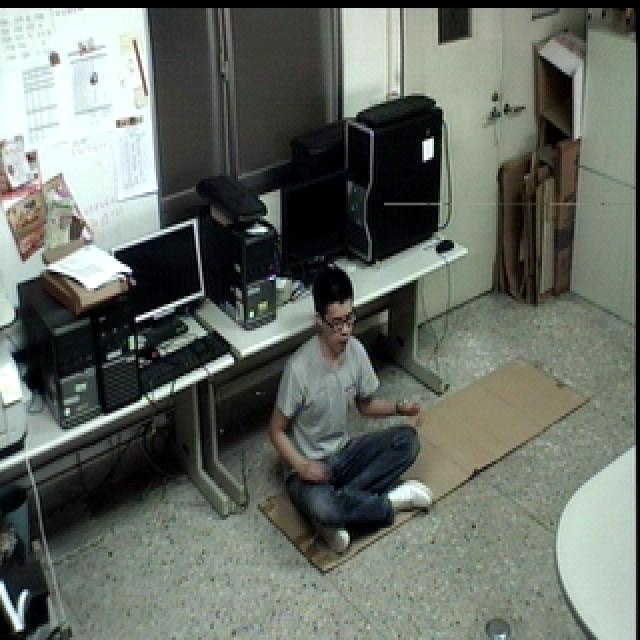sit: (265, 266, 438, 552)
